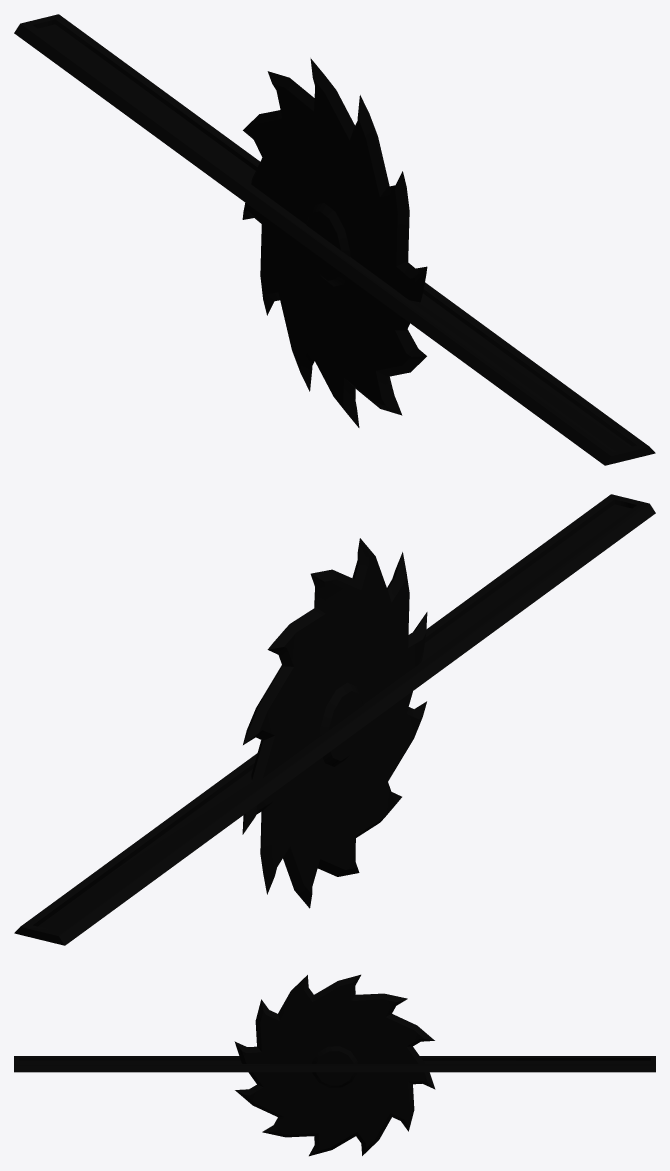
File: saw_blade.fbx
3 views of the same model, one above another, from view 1: azimuth 30°, elevation 25°; view 2: azimuth 150°, elevation 25°; view 3: azimuth 270°, elevation 25° (orthographic). The views are drawn at different scales.
Visible parts, largest first — view 1: saw, wall_rail; view 2: saw, wall_rail; view 3: saw, wall_rail.
Boxes of the visible parts, left/top/right/bottom form: saw: left=242, top=58, right=427, bottom=427; wall_rail: left=14, top=14, right=655, bottom=465; saw: left=242, top=538, right=427, bottom=908; wall_rail: left=14, top=494, right=655, bottom=945; saw: left=234, top=974, right=435, bottom=1156; wall_rail: left=14, top=1056, right=655, bottom=1072.
Size of the model in its own units: 76.47 by 480 by 1534.
